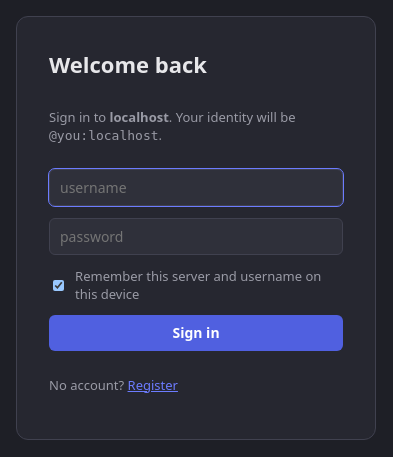
it: AuthPage - 2FA challenge step › shows the code step after login reports totpRequired, without navigating away
Step 1. Type "alice" into the field with placeholder "username" → (196, 188), box [49,169,343,206]
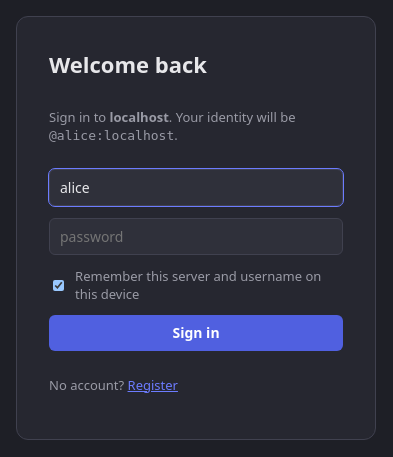
Step 2. Type "pw" into the password field with placeholder "password" → (196, 237), box [49,218,343,255]
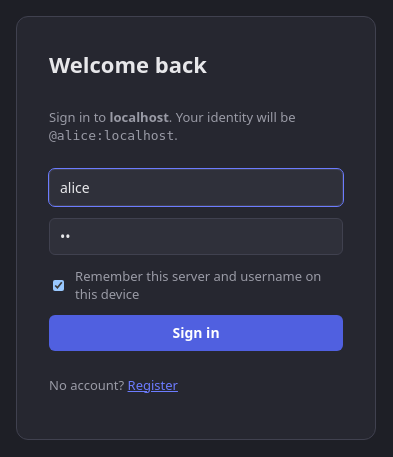
Step 3. Click the button "Sign in" → (196, 333), box [49,315,343,351]
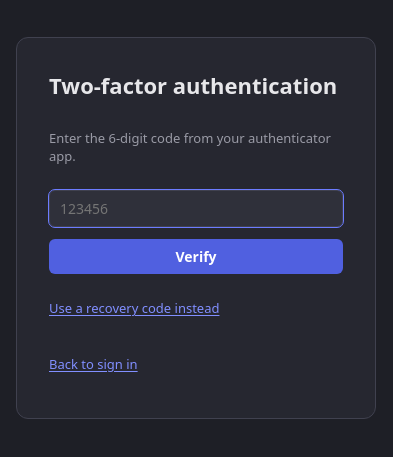
Now the heading "Two-factor authentication" is shown, box [49,70,343,100]
Now the label with placeholder "username" is gone
